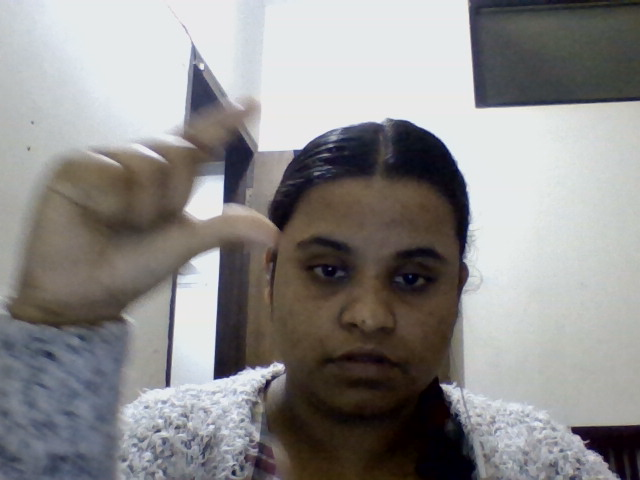No: (2, 93, 304, 304)
